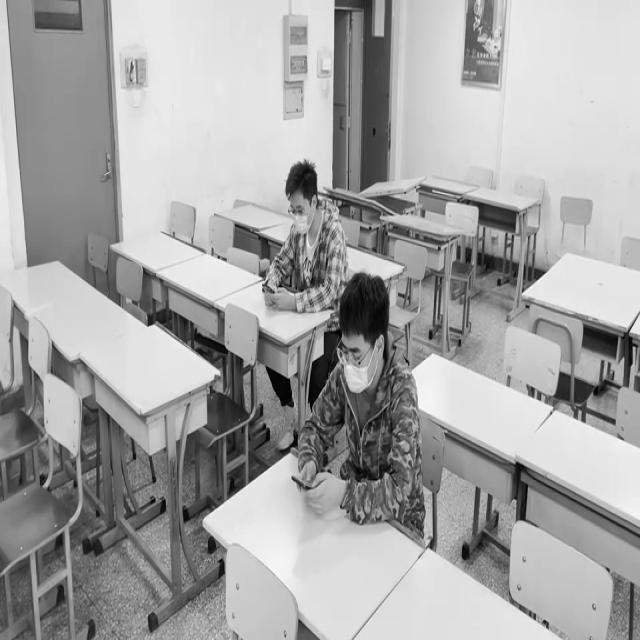phone: (299, 313, 423, 525), (265, 163, 341, 310)
